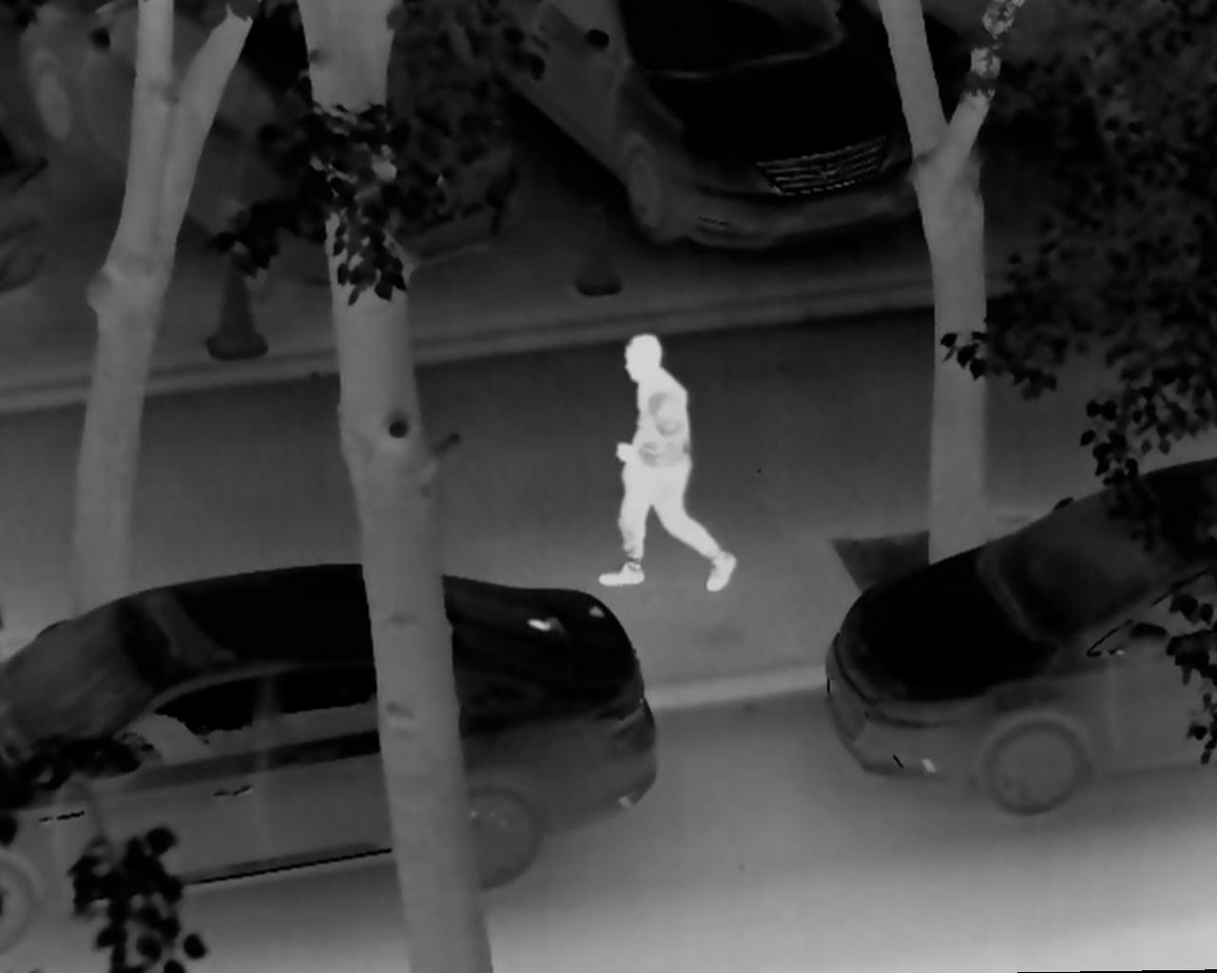person: (594, 329, 745, 602)
